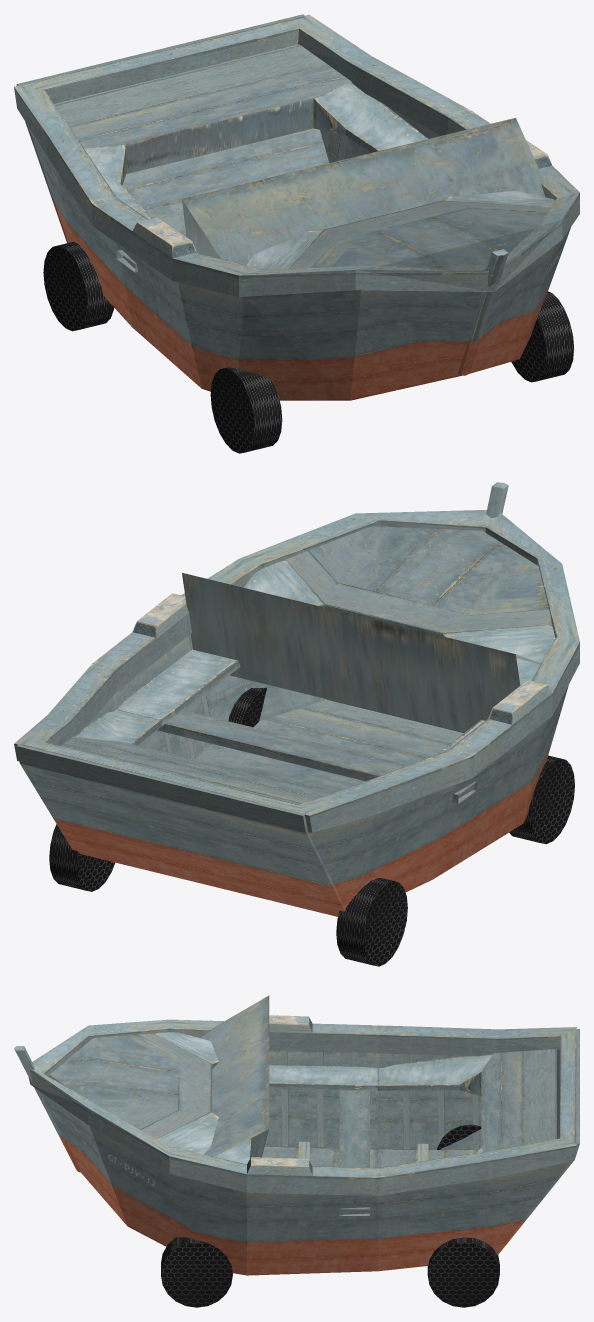
The model's file is bote.obj.
The picture shows the model from 3 angles, top to bottom: view 1: azimuth 30°, elevation 25°; view 2: azimuth 150°, elevation 25°; view 3: azimuth 270°, elevation 25°; orthographic projection. The views are drawn at different scales.
Visible parts, largest first — view 1: pCylinder5; view 2: pCylinder5; view 3: pCylinder5.
Boxes of the visible parts, <box> form: pCylinder5: <box>14,14,579,453</box>; pCylinder5: <box>14,482,579,966</box>; pCylinder5: <box>14,995,579,1307</box>.
Size of the model in its own units: 4.41 by 2.64 by 6.92.
2 materials, 2 textured.
